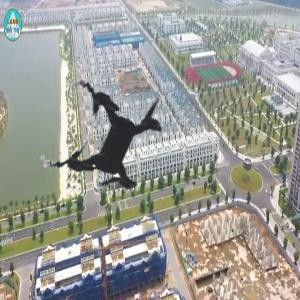drone: (3, 37, 214, 248)
